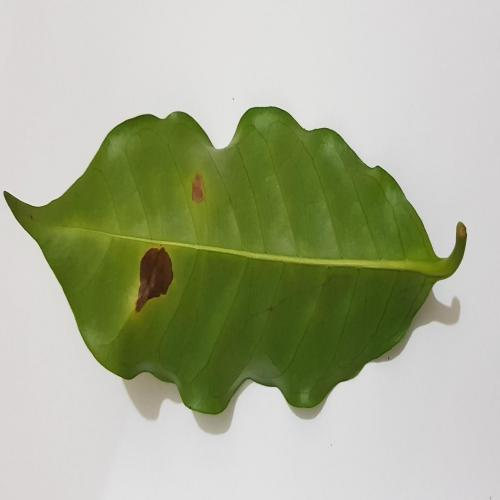leaf: (192, 173, 204, 201)
